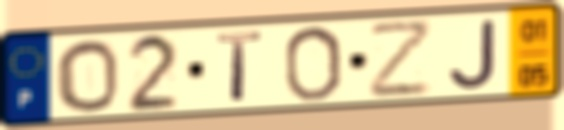2: (126, 30, 181, 113)
J: (446, 16, 500, 92)
O: (53, 37, 122, 114), (281, 23, 345, 104)
T: (214, 29, 266, 106)
Z: (367, 17, 436, 101)
